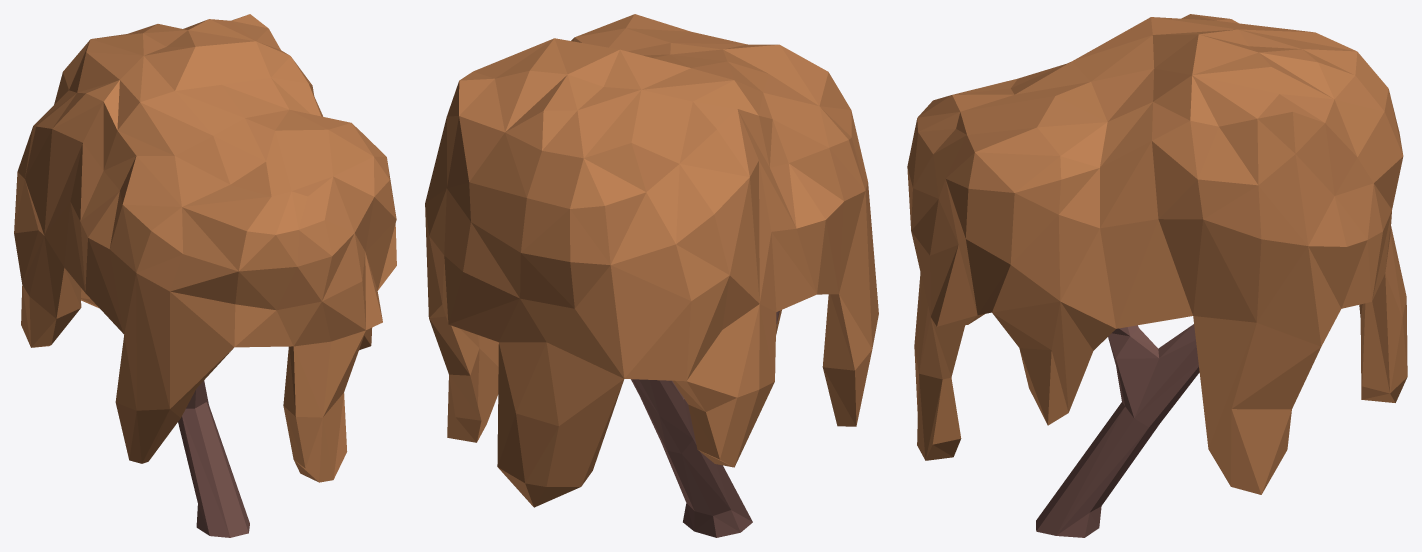
The model's file is Willow_Autumn_4.lod1.glb.
3 views of the same model, side by side, from view 1: azimuth 30°, elevation 25°; view 2: azimuth 150°, elevation 25°; view 3: azimuth 270°, elevation 25° (orthographic). The views are drawn at different scales.
Parts seen in each view (by area): view 1: Willow_Autumn_4; view 2: Willow_Autumn_4; view 3: Willow_Autumn_4.
Boxes of the visible parts, <box> form: Willow_Autumn_4: <box>14,14,396,537</box>; Willow_Autumn_4: <box>425,14,878,537</box>; Willow_Autumn_4: <box>907,14,1407,537</box>.
Bounding box in the file's own units: 2.19 × 3.39 × 3.03.
